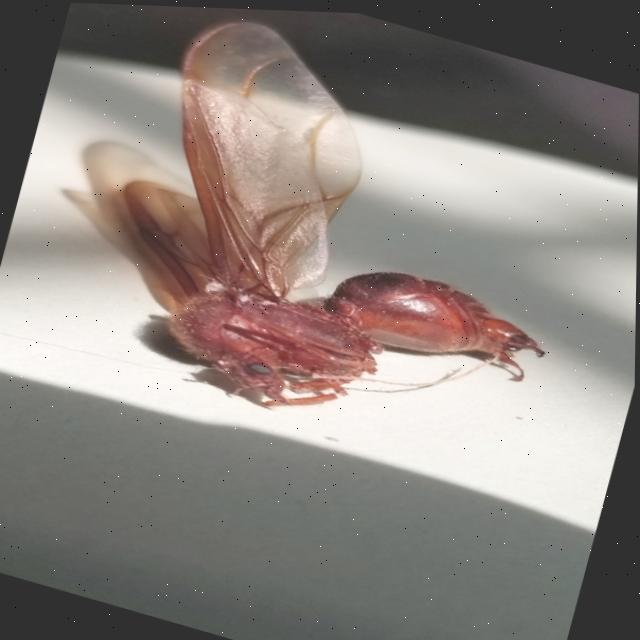Dead-Male-Alate: (77, 2, 609, 479)
